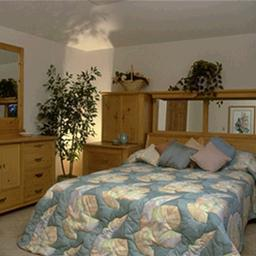Cama: (20, 151, 248, 254)
Matera: (43, 69, 99, 178)
